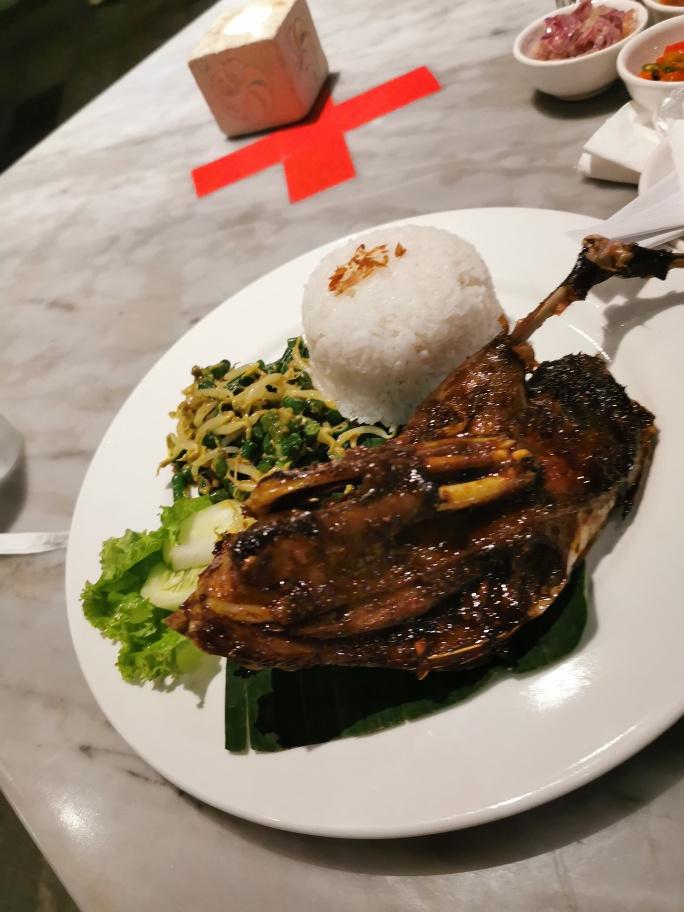bebek bakar: (148, 234, 684, 672)
nasi putih: (286, 206, 504, 427)
